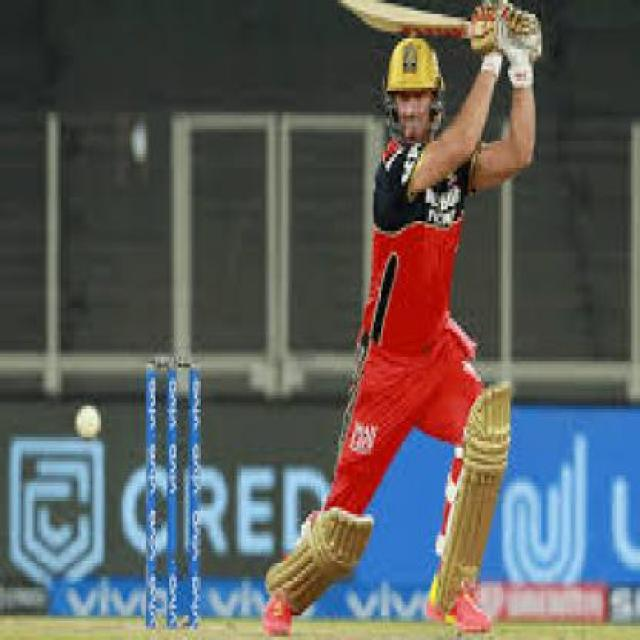ball: (67, 375, 134, 458)
